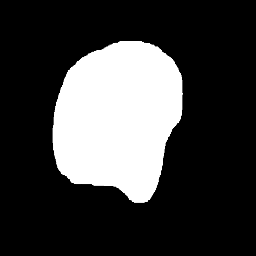mass: (82, 43, 186, 167)
